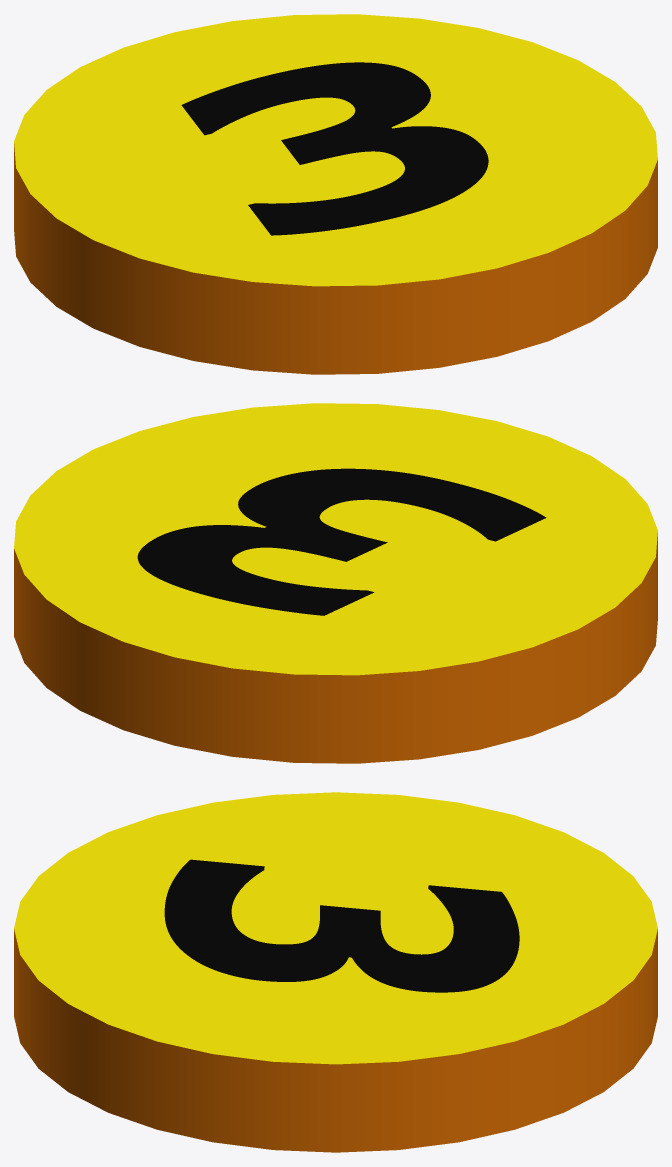
File: three.fbx
3 views of the same model, one above another, from view 1: azimuth 30°, elevation 25°; view 2: azimuth 150°, elevation 25°; view 3: azimuth 270°, elevation 25° (orthographic).
Visible parts, largest first — view 1: ทรงกระบอก.002, ช้อความ.002; view 2: ทรงกระบอก.002, ช้อความ.002; view 3: ทรงกระบอก.002, ช้อความ.002.
Part boxes in pixels (box(x1,y1,x2,y2)): ทรงกระบอก.002: box(14, 14, 657, 374); ช้อความ.002: box(181, 62, 488, 235); ทรงกระบอก.002: box(14, 403, 657, 763); ช้อความ.002: box(137, 468, 546, 615); ทรงกระบอก.002: box(14, 792, 657, 1152); ช้อความ.002: box(164, 859, 519, 992).
Bounding box in the file's own units: 200 × 30.82 × 200.
